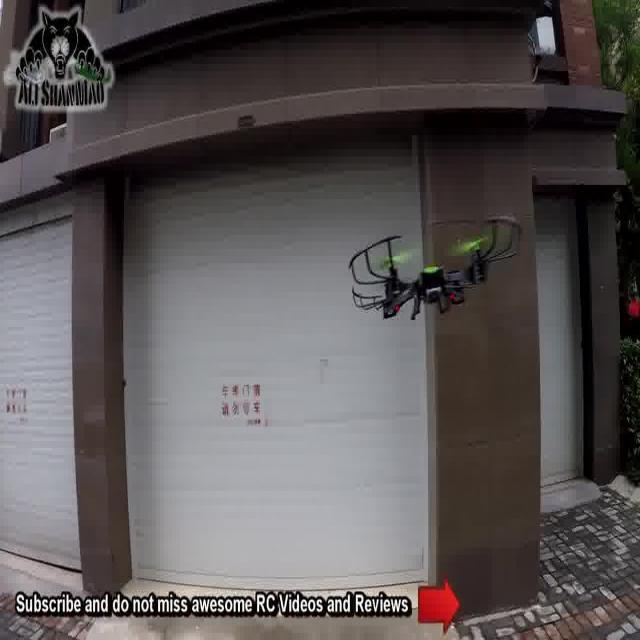drone: (345, 200, 523, 329)
